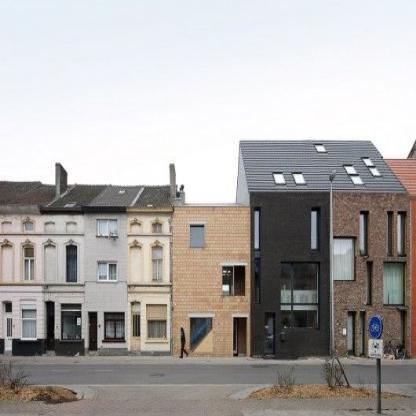Building Outline: (0, 141, 416, 358)
Cornice: (187, 313, 216, 317), (42, 239, 58, 245), (64, 239, 80, 245), (20, 239, 36, 245), (129, 239, 144, 245), (150, 239, 165, 245), (0, 239, 14, 245), (130, 218, 141, 224), (151, 218, 162, 224), (232, 313, 248, 317), (220, 263, 247, 265)
Door: (233, 318, 247, 357), (265, 312, 276, 356), (345, 312, 355, 355), (132, 314, 140, 352), (90, 314, 98, 351), (5, 317, 13, 351), (47, 315, 54, 350)
Facade: (0, 141, 415, 357)
Floor Slab: (260, 290, 329, 310), (1, 283, 85, 287), (174, 305, 251, 309), (0, 234, 84, 237), (250, 256, 330, 259), (174, 256, 251, 259), (84, 297, 127, 301), (127, 235, 170, 239), (84, 249, 127, 252), (128, 285, 169, 288)
Glass Wall: (281, 263, 318, 330), (333, 238, 356, 282), (383, 262, 405, 306), (190, 318, 213, 352), (61, 303, 82, 340), (3, 247, 14, 282), (131, 247, 142, 282), (24, 247, 35, 282), (45, 247, 56, 282), (66, 247, 77, 282), (152, 247, 163, 282)
Roof: (239, 141, 416, 196), (0, 181, 178, 214)
Window: (221, 266, 245, 296), (105, 313, 124, 339), (22, 309, 37, 338), (97, 262, 117, 280), (311, 207, 319, 250), (148, 320, 167, 338), (97, 219, 117, 235), (254, 207, 261, 250), (359, 212, 366, 255), (397, 214, 404, 256), (190, 225, 204, 245), (254, 260, 260, 305), (386, 213, 392, 256), (398, 311, 403, 354), (358, 312, 363, 355), (366, 262, 371, 304), (273, 174, 286, 183), (293, 174, 306, 183), (350, 176, 363, 184), (368, 167, 381, 175), (344, 166, 357, 174), (362, 158, 374, 166), (153, 225, 163, 233), (6, 303, 13, 312), (316, 145, 326, 151)
